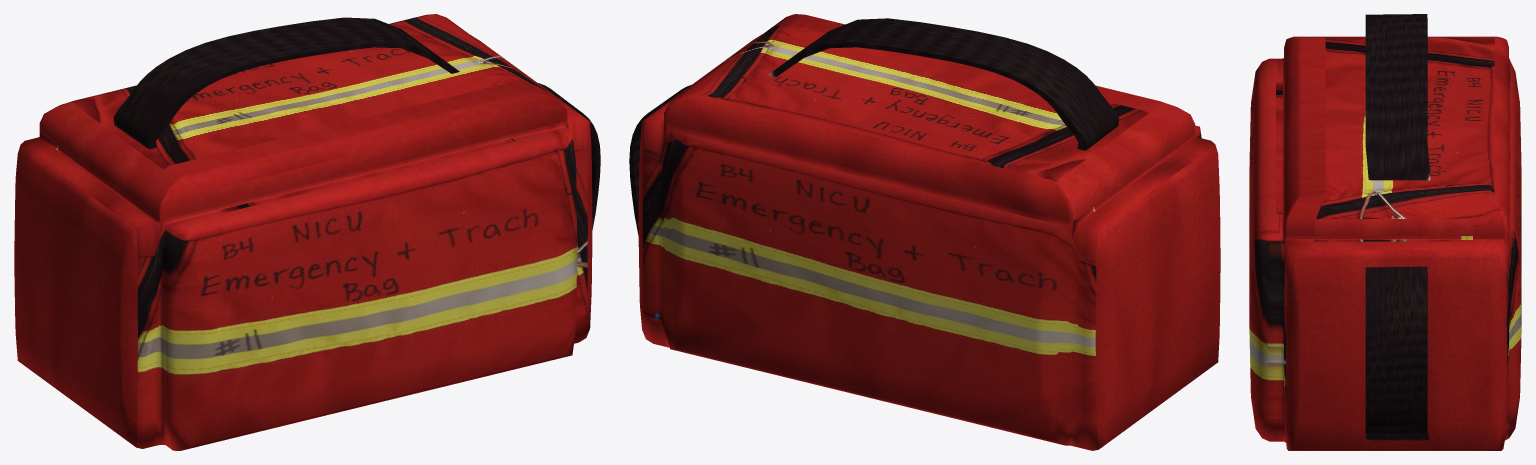
Rendered from emergency_trach_bag.fbx.
3 renders of one model, left to right at view 1: azimuth 30°, elevation 25°; view 2: azimuth 150°, elevation 25°; view 3: azimuth 270°, elevation 25°, orthographic. The views are drawn at different scales.
Visible parts, largest first — view 1: emergency_trach_bag, handle1, handle; view 2: emergency_trach_bag, handle1, handle; view 3: emergency_trach_bag, handle, handle1.
Boxes of the visible parts, <box> form: emergency_trach_bag: <box>14,14,592,450</box>; handle1: <box>113,17,459,149</box>; handle: <box>538,83,600,229</box>; emergency_trach_bag: <box>638,14,1220,450</box>; handle1: <box>768,18,1119,150</box>; handle: <box>629,84,691,235</box>; emergency_trach_bag: <box>1249,36,1521,450</box>; handle: <box>1365,266,1429,440</box>; handle1: <box>1365,14,1430,180</box>.
Size of the model in its own units: 2.44 by 1.43 by 1.21.
1 material, 1 textured.
